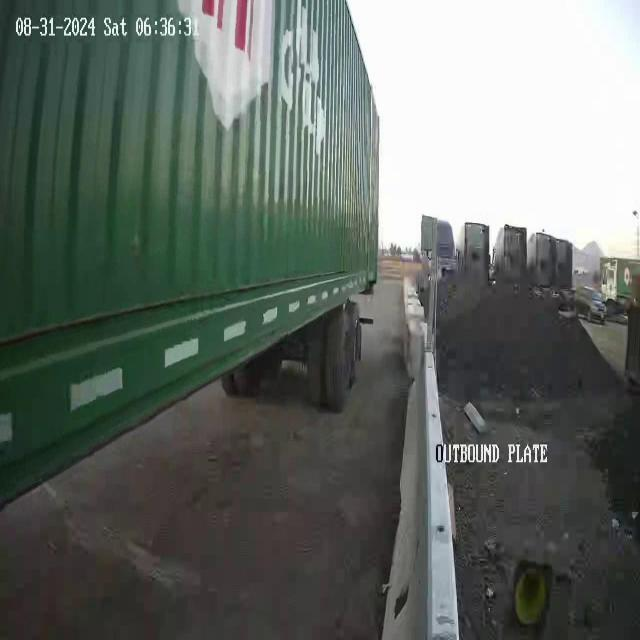TRUCK_OUT: (1, 1, 380, 504)
